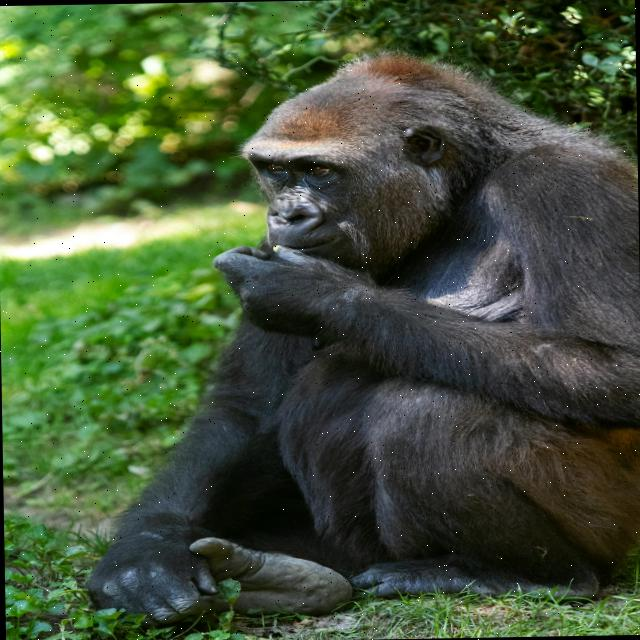Gorilla: (73, 51, 640, 630)
